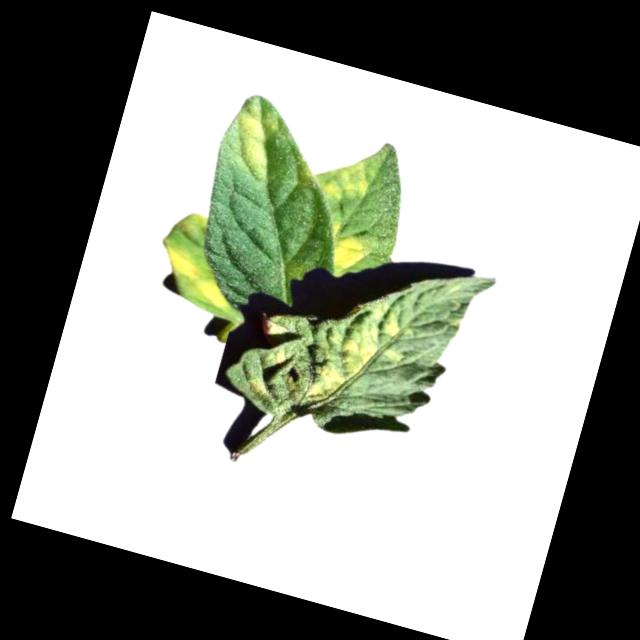Leaf_Mold: (295, 289, 414, 426), (305, 128, 392, 212), (148, 238, 243, 314), (218, 91, 288, 182), (317, 214, 377, 282)
